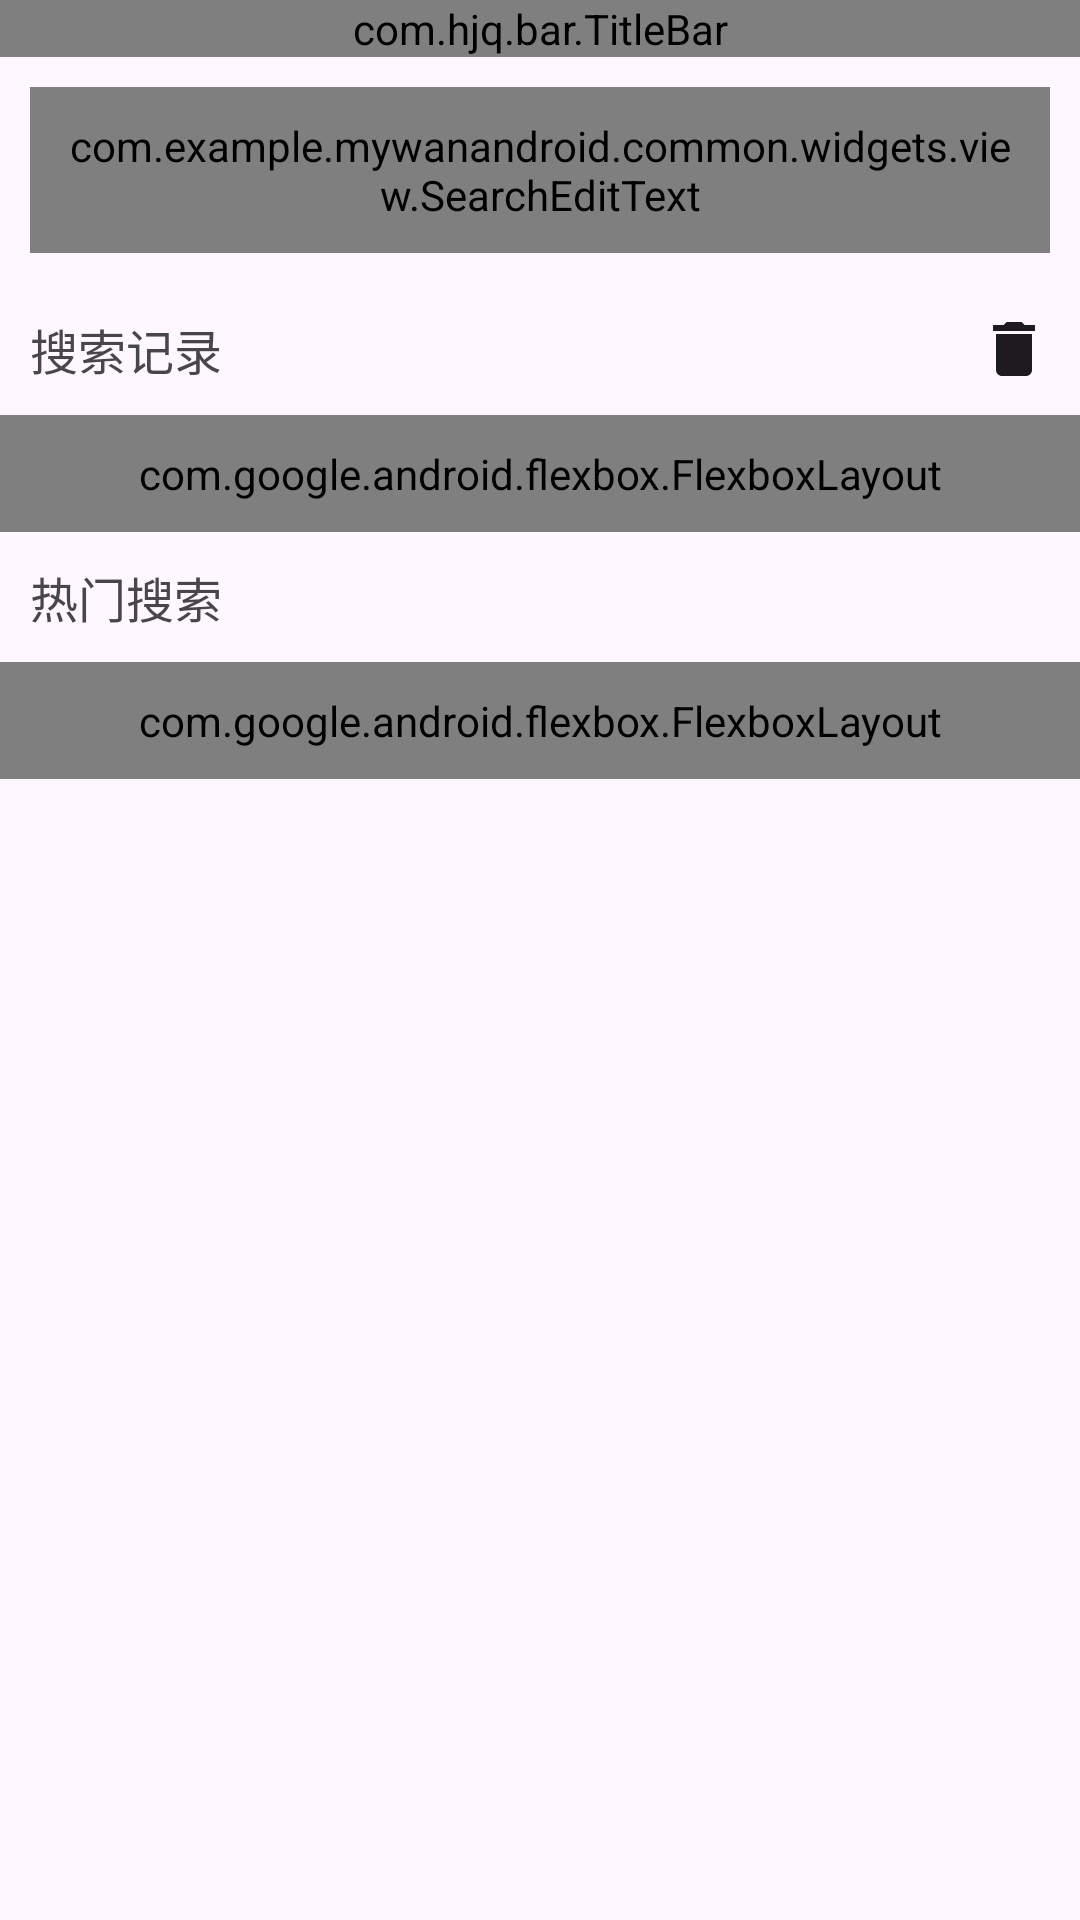

Icon bounding boxes for this 1080w x 1920h phone screenshot, format (x1, y1, x2, y2):
delete: (993, 322, 1035, 376)
